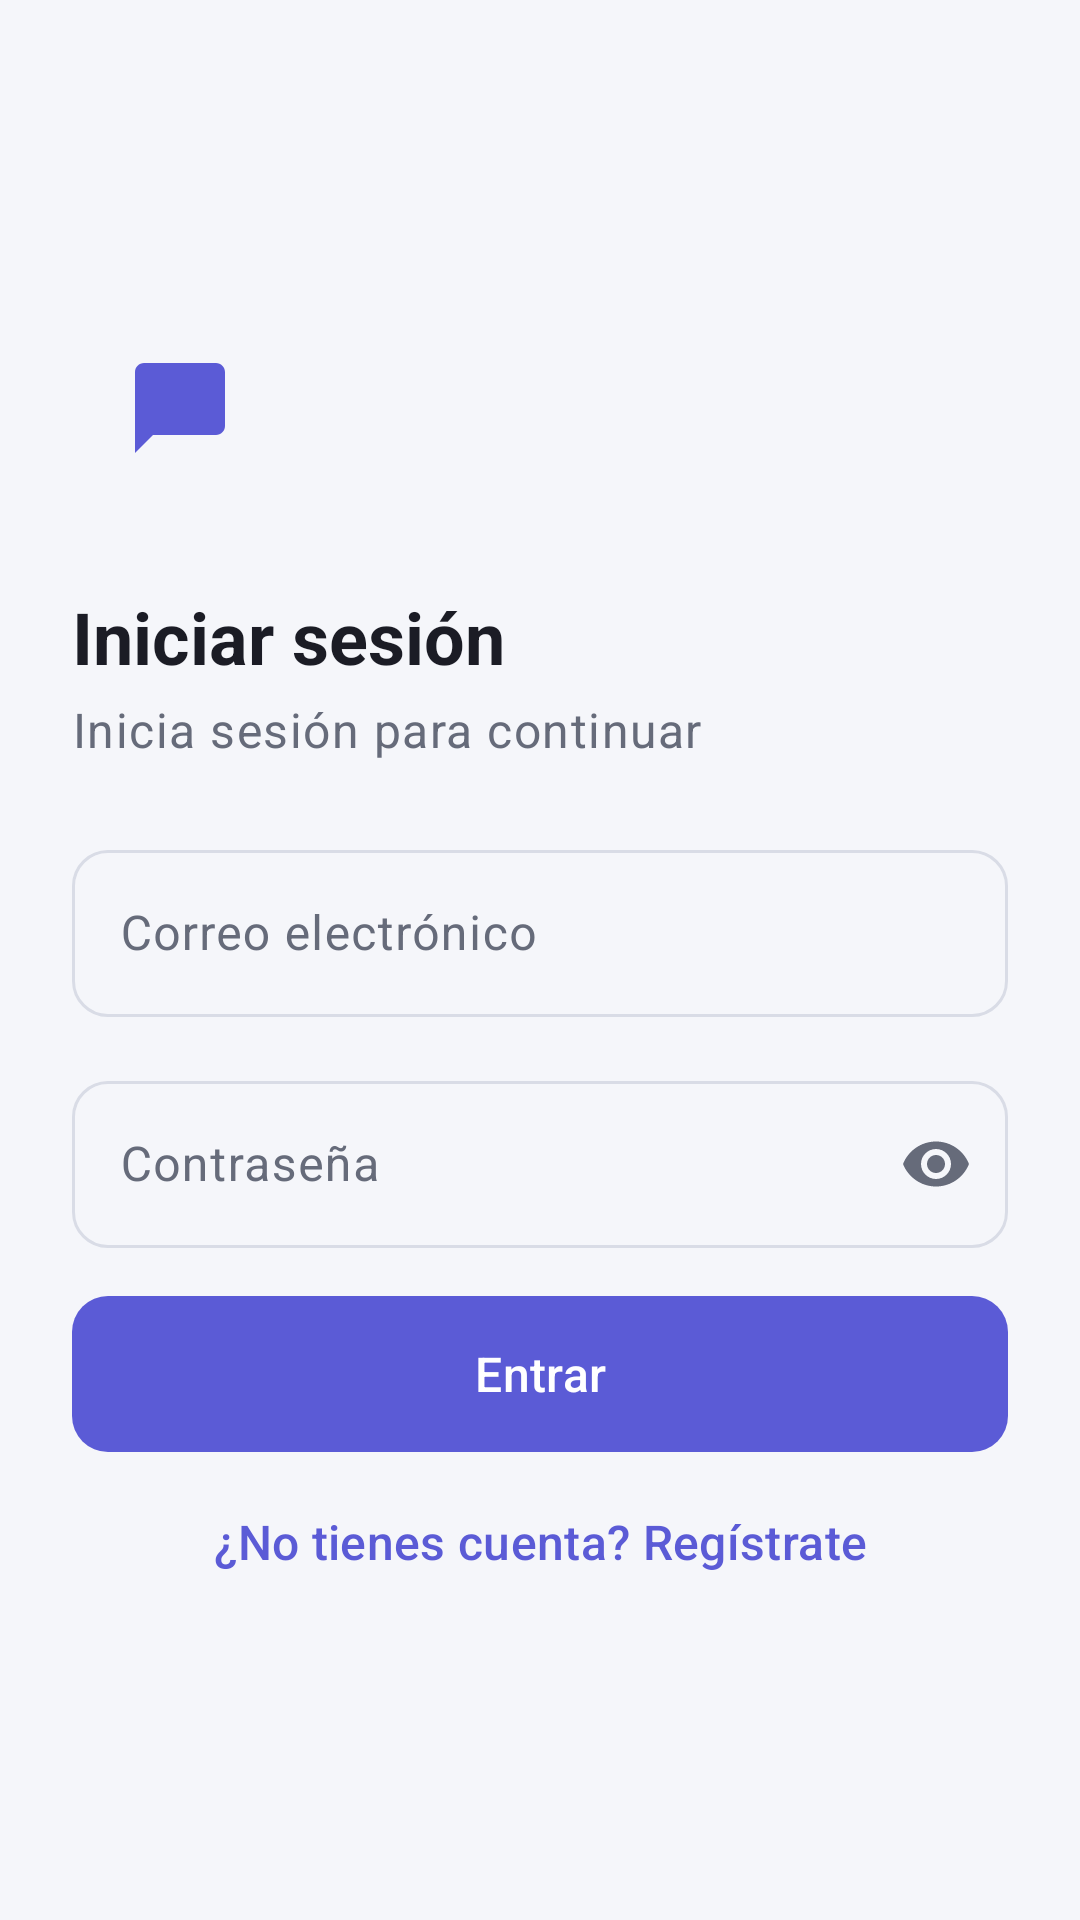

Icons on this 1080×1920 Android screen, each with the point to tap as point (x, y):
chat: point (180, 408)
